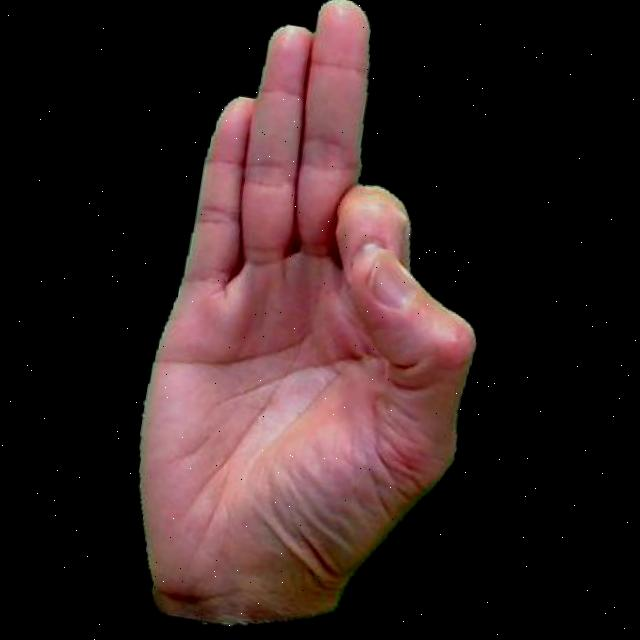f: (103, 0, 533, 640)
